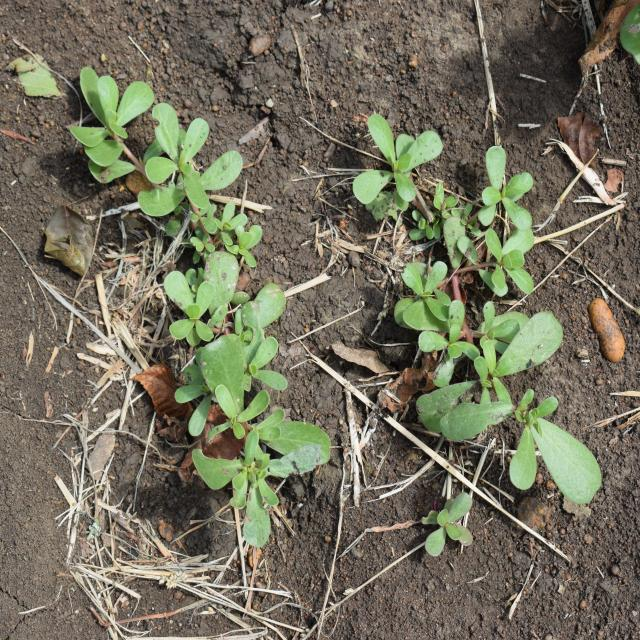Purslane: (69, 67, 331, 548), (352, 114, 602, 505), (421, 492, 473, 557)
